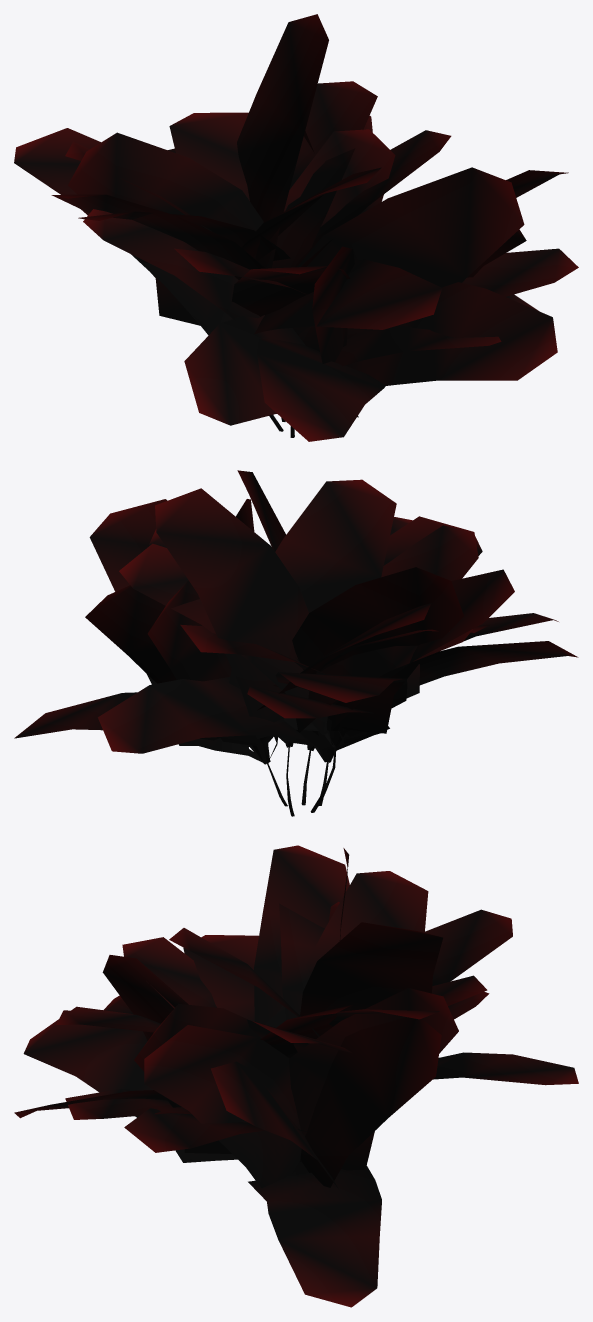
File: Bush01D.fbx
3 views of the same model, one above another, from view 1: azimuth 30°, elevation 25°; view 2: azimuth 150°, elevation 25°; view 3: azimuth 270°, elevation 25° (orthographic). The views are drawn at different scales.
Parts seen in each view (by area): view 1: Bush01D; view 2: Bush01D; view 3: Bush01D.
Part boxes in pixels (left/top/right/bottom): Bush01D: left=14, top=14, right=578, bottom=441; Bush01D: left=14, top=470, right=578, bottom=816; Bush01D: left=14, top=845, right=578, bottom=1307.
Bounding box in the file's own units: 2.62 × 1.74 × 2.77.
